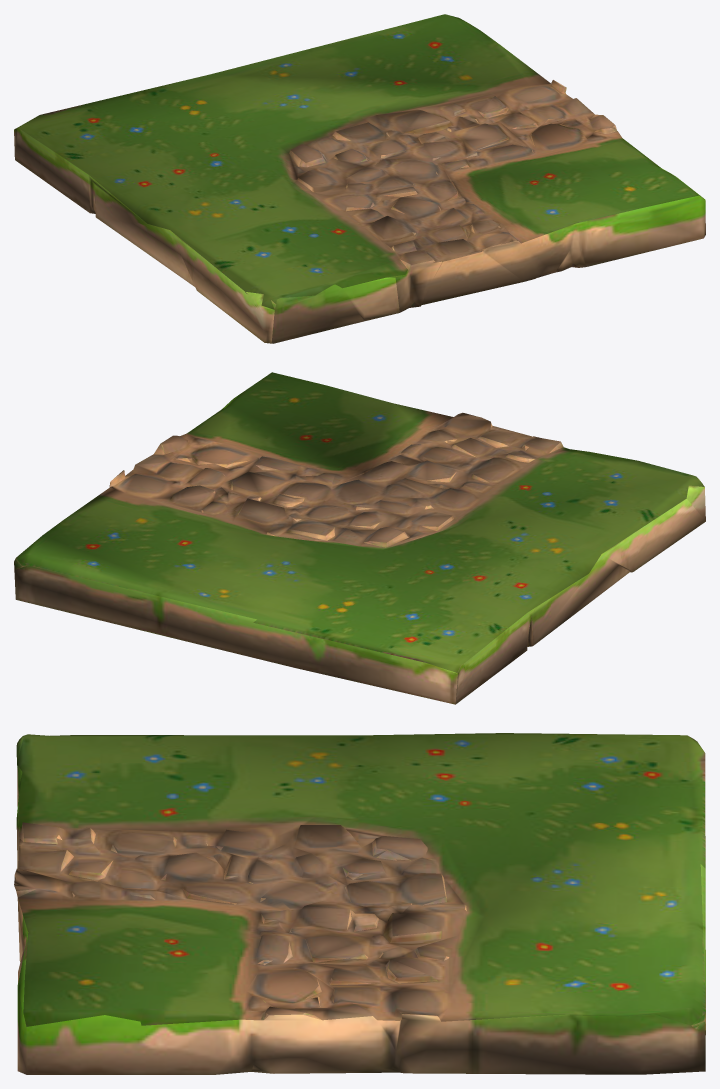
Rendered from path-curve.glb.
3 views of the same model, one above another, from view 1: azimuth 30°, elevation 25°; view 2: azimuth 150°, elevation 25°; view 3: azimuth 270°, elevation 25° (orthographic). The views are drawn at different scales.
Visible parts, largest first — view 1: Mesh1.0; view 2: Mesh1.0; view 3: Mesh1.0.
Part boxes in pixels (bbox=[...]): Mesh1.0: bbox=[14, 14, 705, 343]; Mesh1.0: bbox=[14, 372, 705, 704]; Mesh1.0: bbox=[14, 733, 705, 1074].
Bounding box in the file's own units: 1.89 × 0.1842 × 1.89.
Materials: 1 (1 with a texture image).
